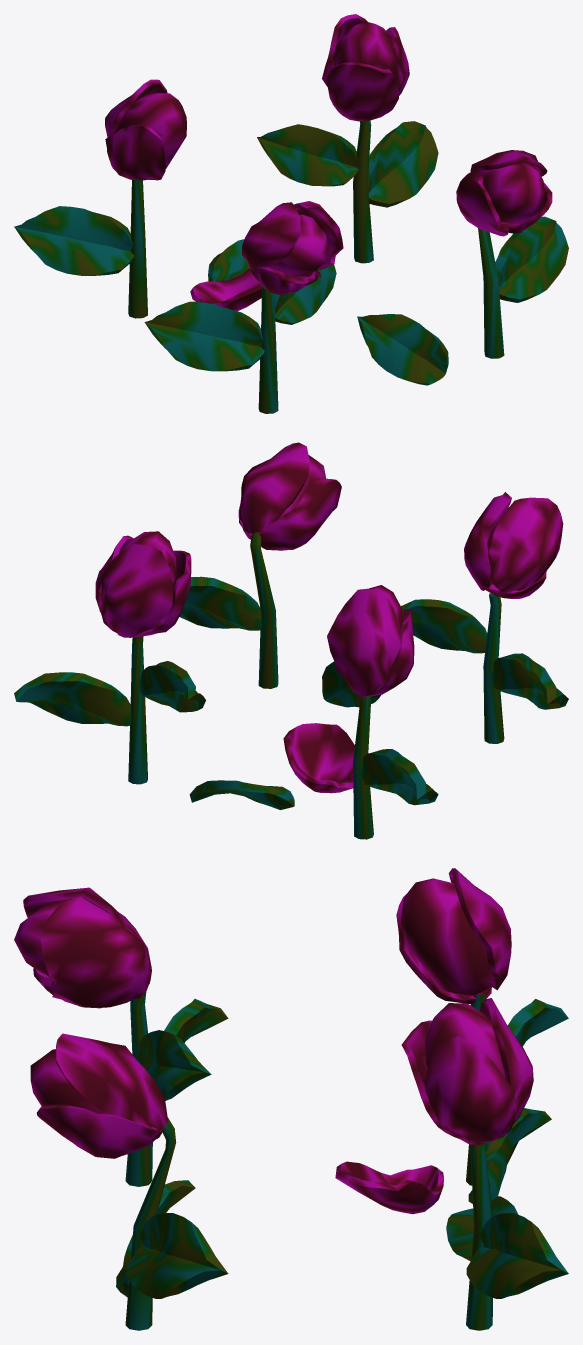
Rendered from Farm_Crop_Tulip_02_Dead.fbx.
3 renders of one model, top to bottom at view 1: azimuth 30°, elevation 25°; view 2: azimuth 150°, elevation 25°; view 3: azimuth 270°, elevation 25°, orthographic. The views are drawn at different scales.
Visible parts, largest first — view 1: Farm_Crop_Tulip_02_Dead; view 2: Farm_Crop_Tulip_02_Dead; view 3: Farm_Crop_Tulip_02_Dead.
Boxes of the visible parts, bbox=[...] form: Farm_Crop_Tulip_02_Dead: bbox=[14, 14, 568, 413]; Farm_Crop_Tulip_02_Dead: bbox=[14, 442, 568, 839]; Farm_Crop_Tulip_02_Dead: bbox=[14, 868, 568, 1330].
Bounding box in the file's own units: 182 × 106 × 163.
